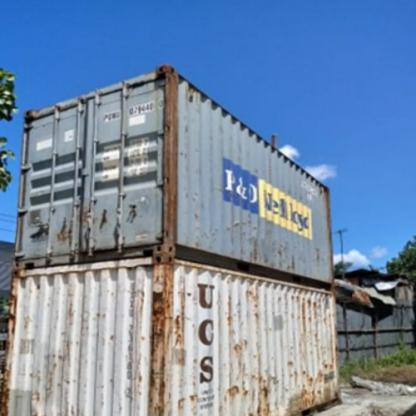Damage: (26, 297, 78, 415), (146, 269, 177, 415), (292, 289, 334, 360), (287, 361, 341, 414), (174, 285, 200, 373), (126, 284, 146, 398), (182, 187, 210, 249), (232, 209, 262, 259), (254, 370, 282, 416), (274, 234, 298, 272), (220, 379, 250, 408), (178, 386, 206, 416), (263, 149, 282, 193), (246, 284, 264, 328), (236, 338, 255, 370), (96, 206, 112, 232), (313, 244, 327, 268), (216, 290, 224, 330), (228, 295, 235, 334), (93, 302, 110, 318), (184, 118, 192, 142), (107, 327, 115, 345), (109, 370, 118, 385), (274, 293, 286, 301)
